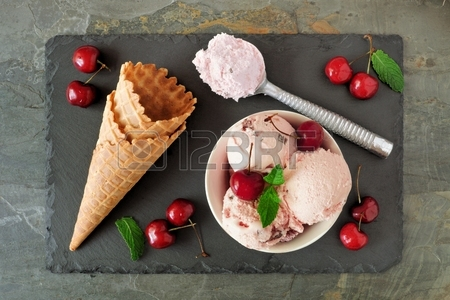ice-cream: (222, 185, 305, 247), (285, 149, 350, 221), (193, 34, 263, 99), (230, 115, 297, 174)
